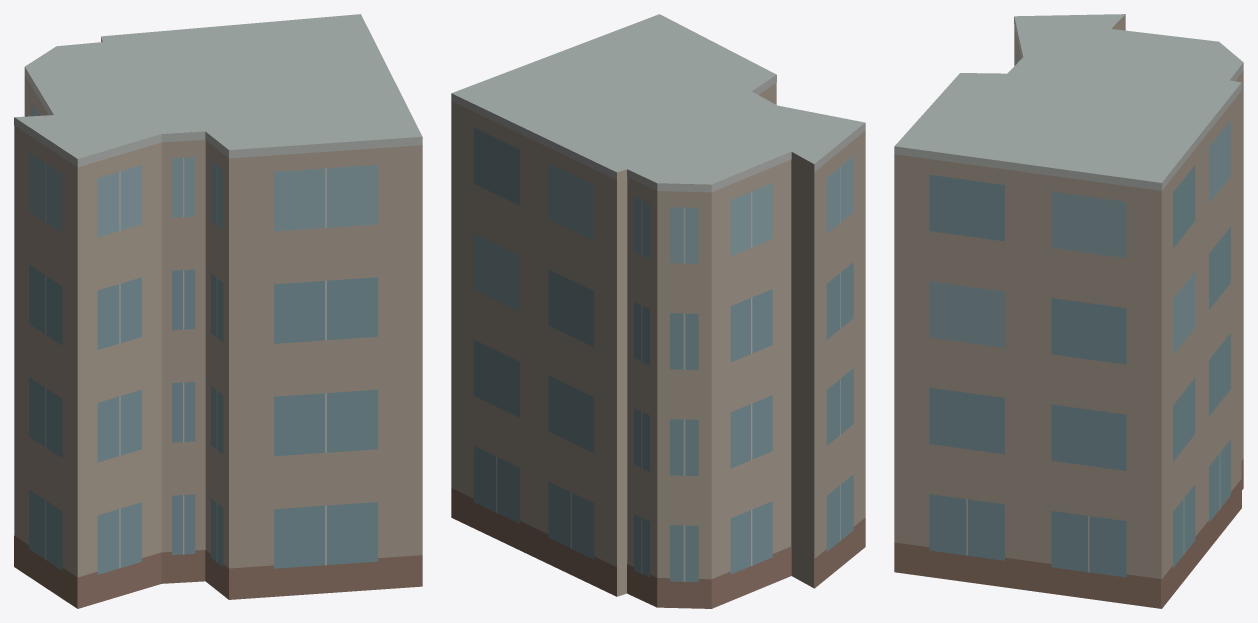
Rendered from survey-upis-32460234.glb.
The picture shows the model from 3 angles, left to right: view 1: azimuth 30°, elevation 25°; view 2: azimuth 150°, elevation 25°; view 3: azimuth 270°, elevation 25°; orthographic projection. The views are drawn at different scales.
Parts seen in each view (by area): view 1: survey-upis-32460234.tmp; view 2: survey-upis-32460234.tmp; view 3: survey-upis-32460234.tmp.
Part boxes in pixels (<box>): survey-upis-32460234.tmp: <box>14,14,422,608</box>; survey-upis-32460234.tmp: <box>451,14,865,608</box>; survey-upis-32460234.tmp: <box>894,14,1243,608</box>.
Size of the model in its own units: 11.23 by 13.19 by 9.81.
